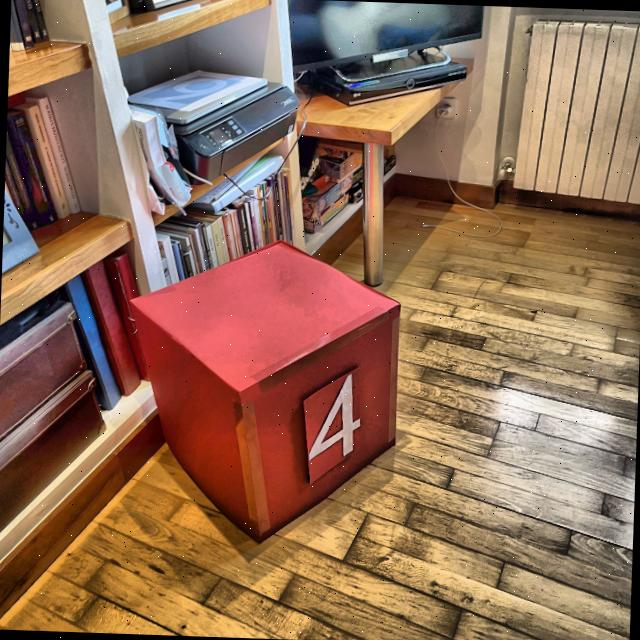four: (306, 373, 362, 464)
red box: (116, 235, 398, 548)
